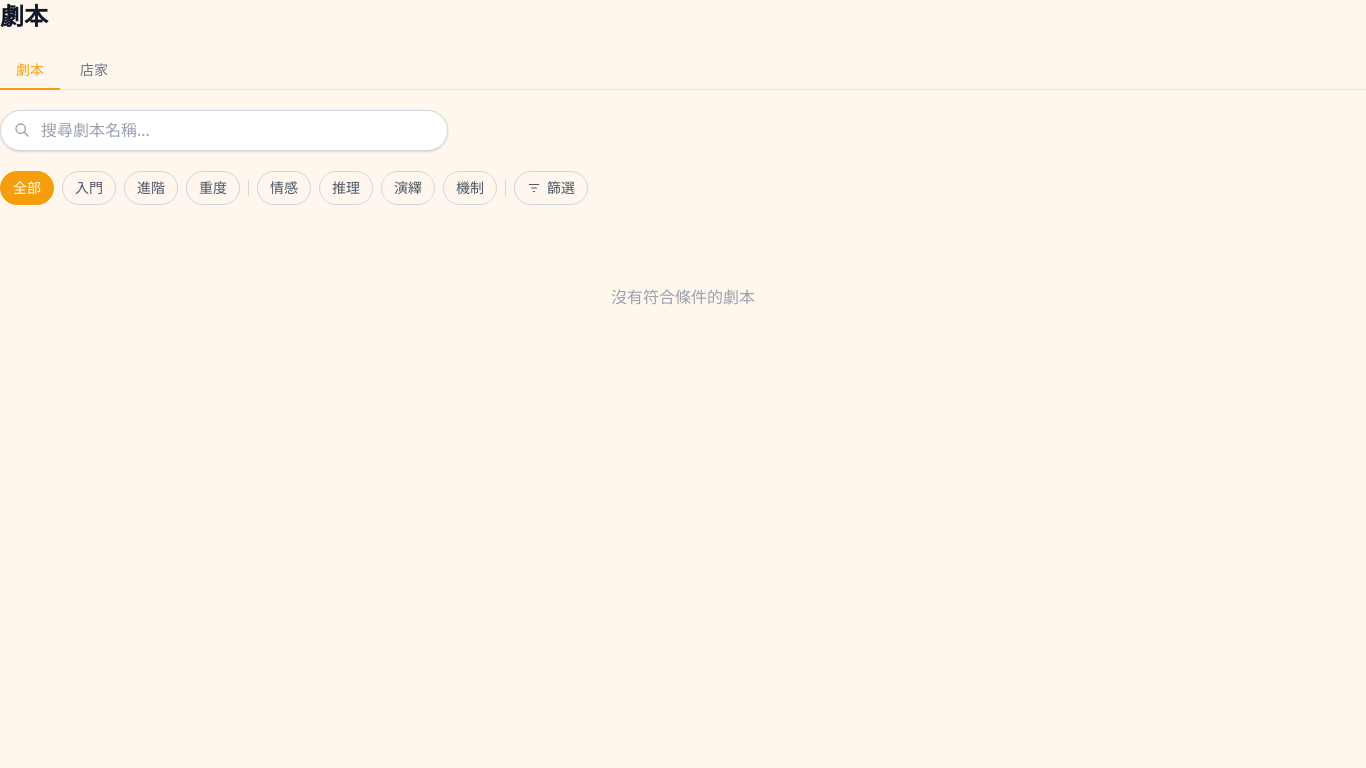
ScriptsPage – filter drawer › closes drawer when 完成 clicked
Click the button "篩選": (551,188) [514, 171, 588, 205]
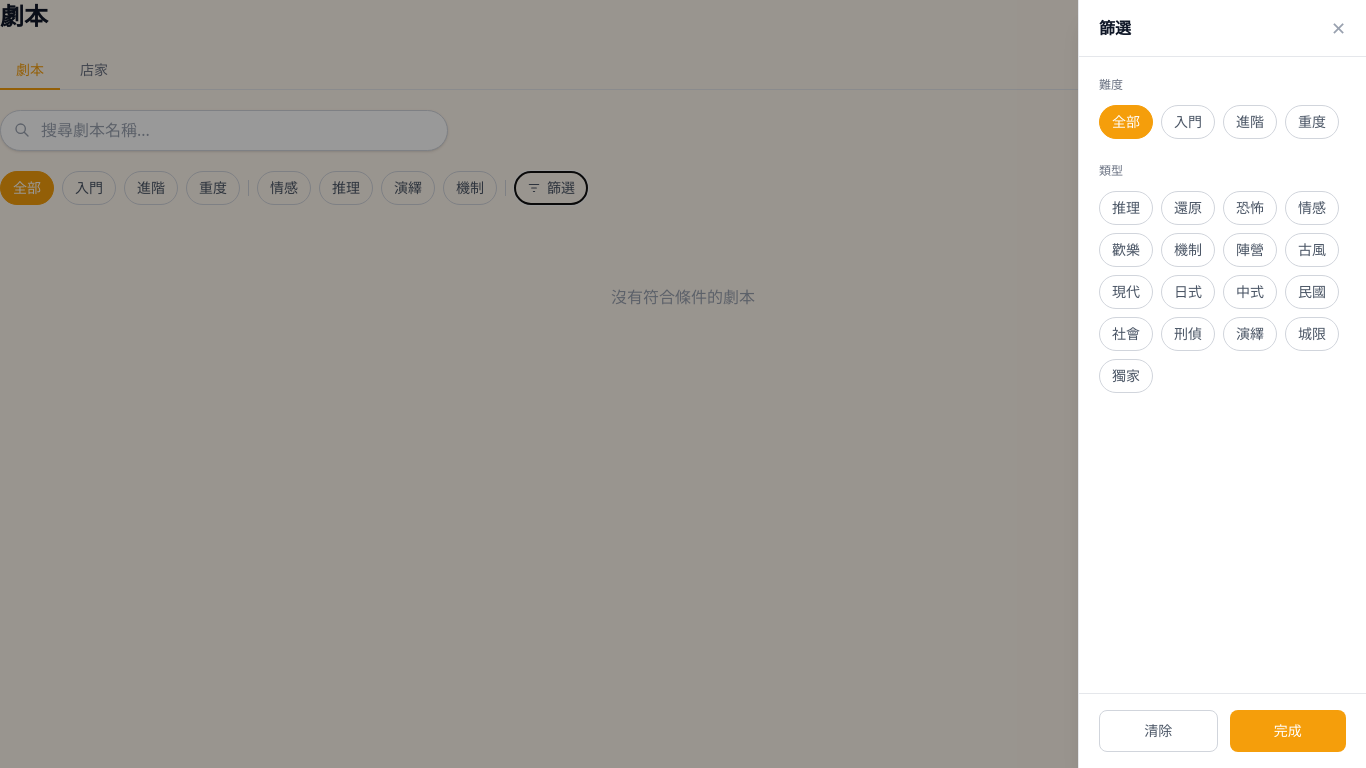
Click the button "完成": (1288,731) [1230, 710, 1346, 752]
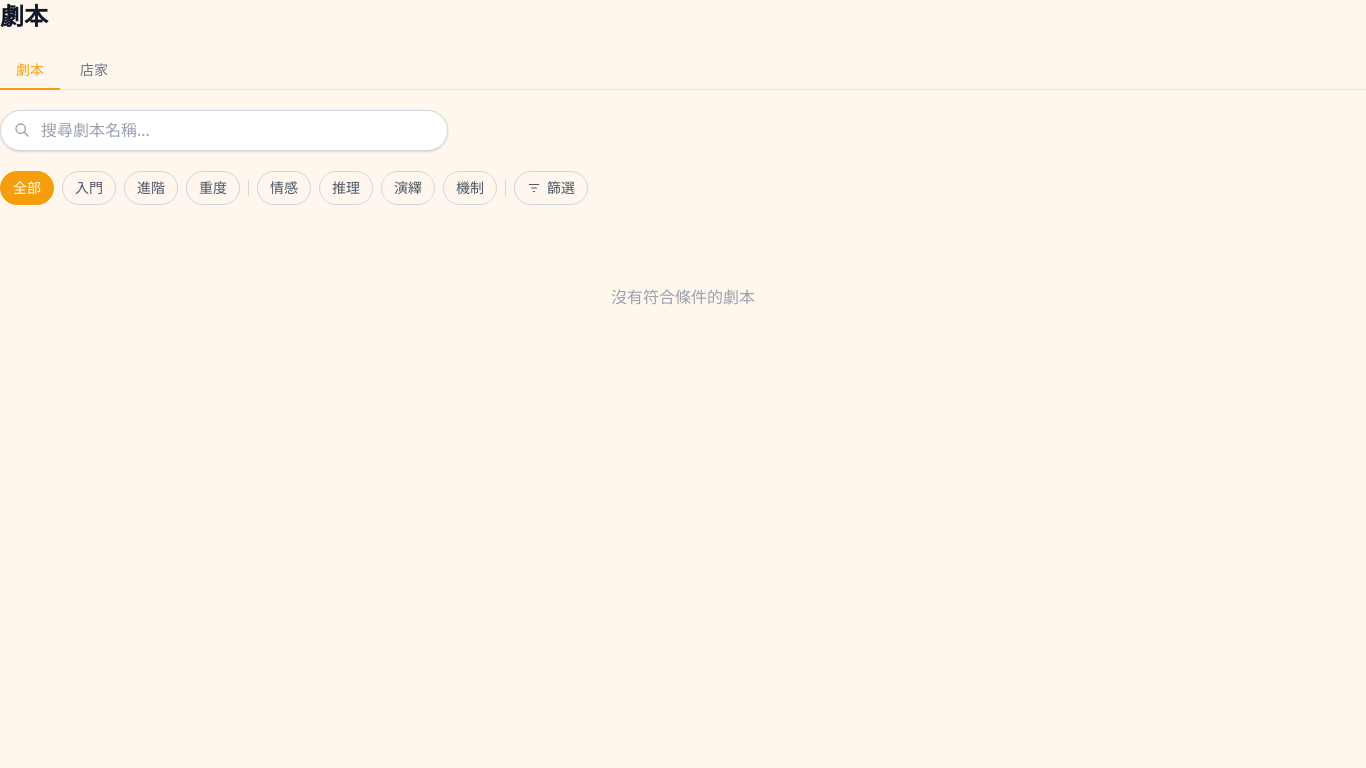
Result: the button "完成" is gone
